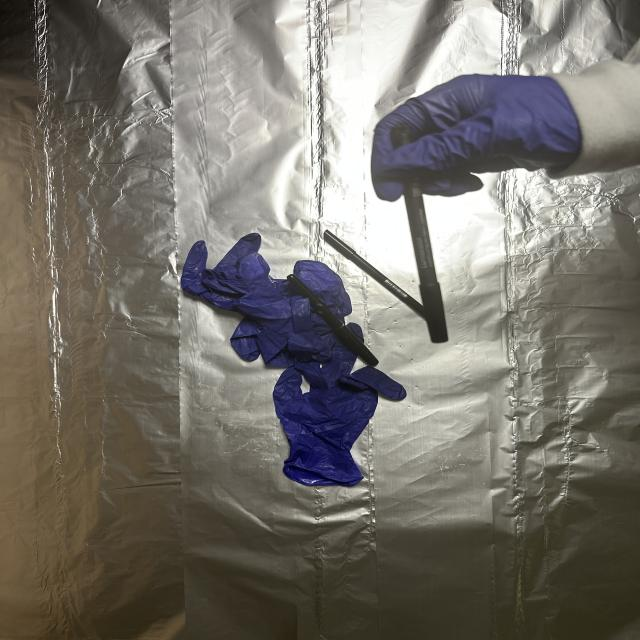gloves_contaminated: (371, 74, 582, 200)
